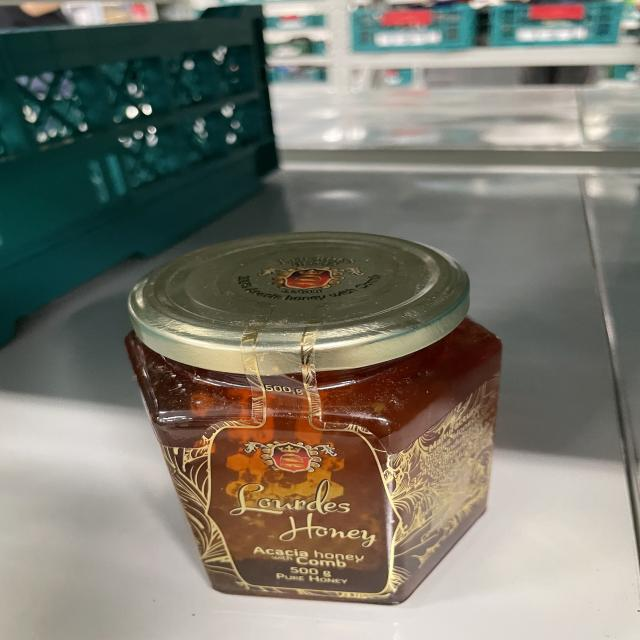object_name: (132, 248, 498, 613)
